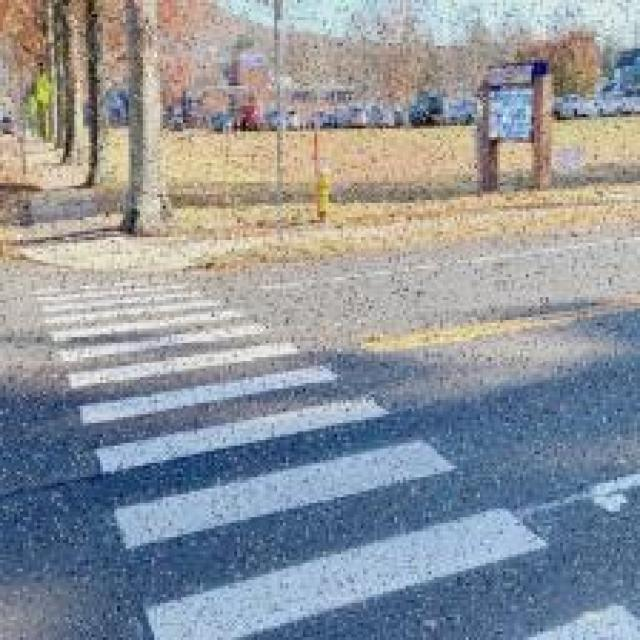walk-crossing: (31, 282, 526, 638)
